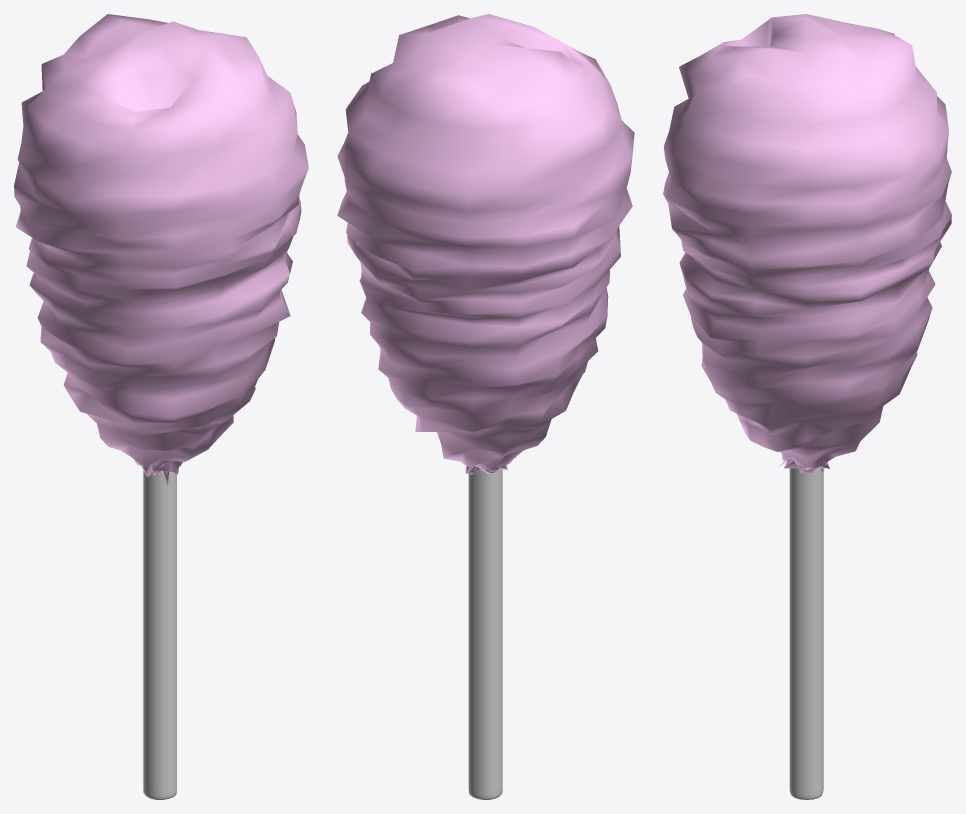
The model's file is CottonTree.fbx.
The picture shows the model from 3 angles, left to right: view 1: azimuth 30°, elevation 25°; view 2: azimuth 150°, elevation 25°; view 3: azimuth 270°, elevation 25°; orthographic projection.
Parts seen in each view (by area): view 1: CottonTree; view 2: CottonTree; view 3: CottonTree.
Boxes of the visible parts, x1,y1,x2,y2 form: CottonTree: (14, 14, 308, 799); CottonTree: (337, 14, 634, 799); CottonTree: (663, 14, 951, 799).
Bounding box in the file's own units: 818 × 2271 × 782.
